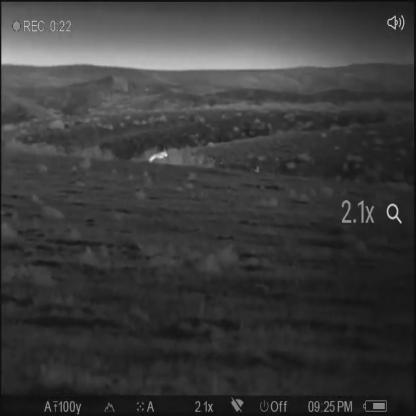rehkitze: (149, 149, 170, 166)
